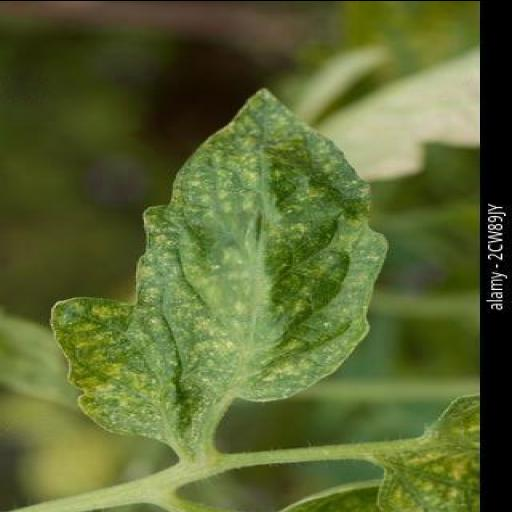disease_tomato: (45, 87, 393, 436)
